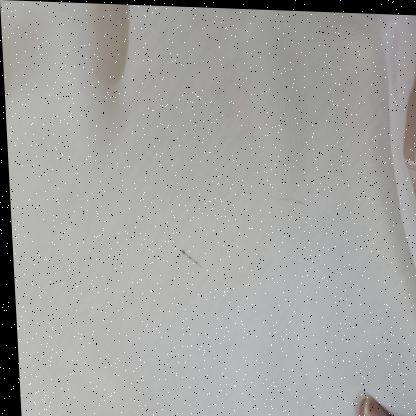spot: (176, 249, 199, 271), (293, 196, 304, 206)
